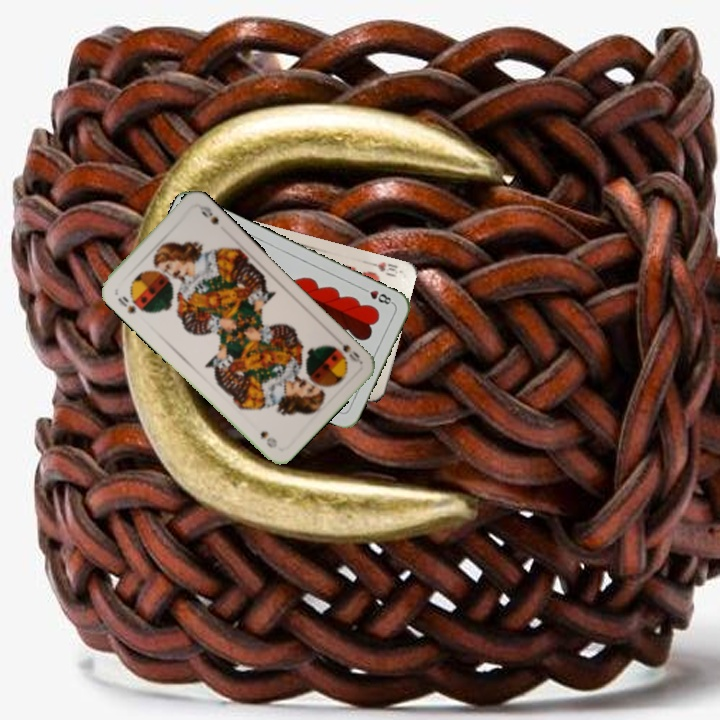H10: (363, 257, 403, 280)
H8: (358, 284, 396, 307)
SO: (113, 292, 146, 316), (338, 340, 364, 365)
